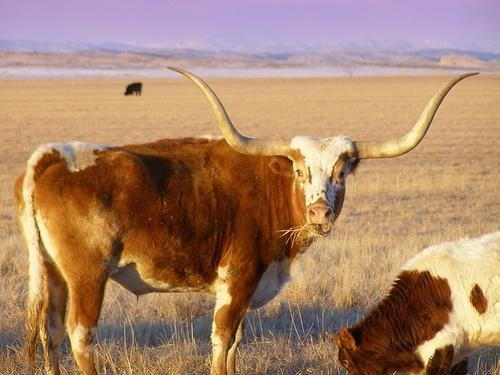cow: (15, 133, 360, 375), (337, 229, 500, 375), (124, 83, 143, 98)
